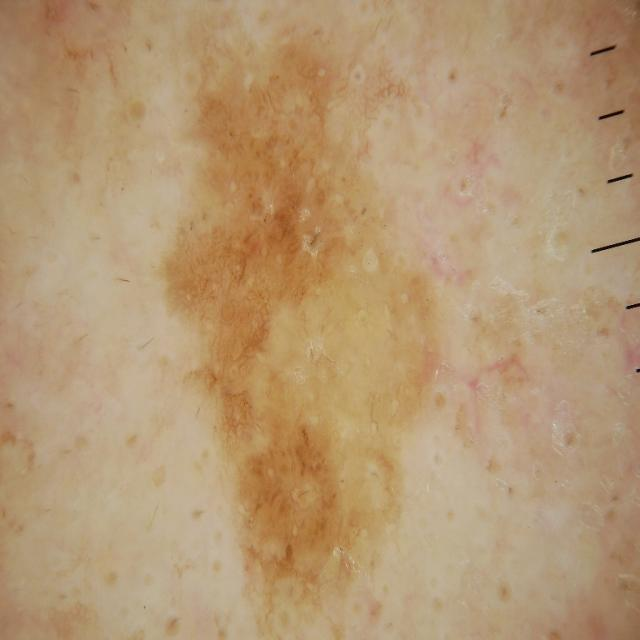Skin-Cancer Seborrheic keratosis: (3, 4, 640, 630)
